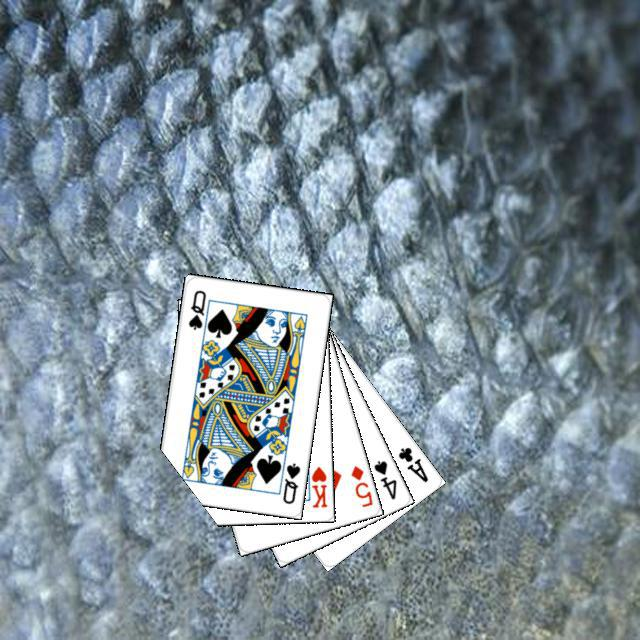4s: (369, 455, 398, 501)
5d: (346, 461, 374, 509)
Ac: (393, 442, 430, 484)
Kh: (302, 458, 329, 509)
Qs: (183, 285, 208, 332), (278, 458, 302, 505)
